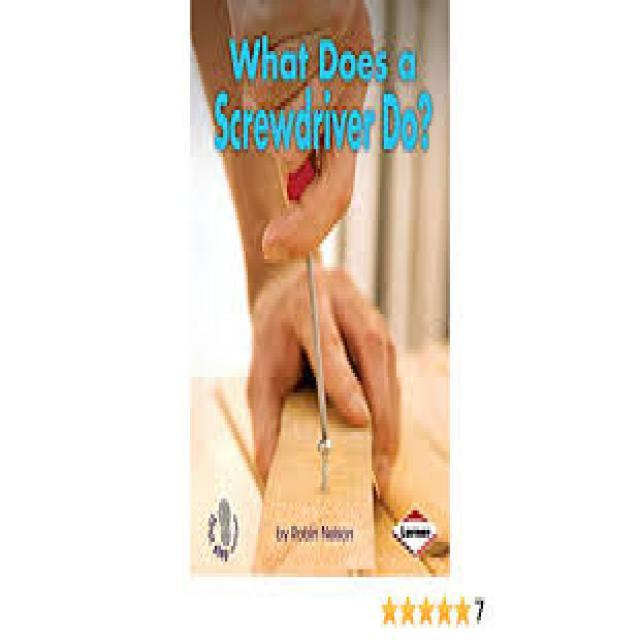screwdriver: (282, 57, 334, 457)
